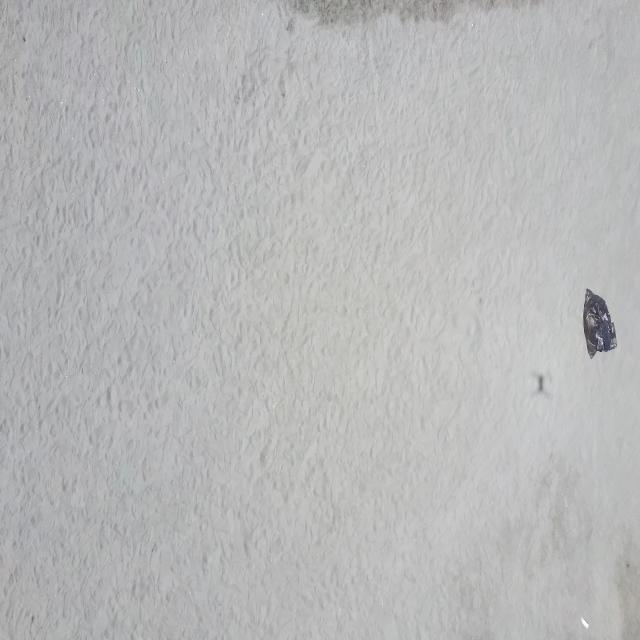Garbage: (584, 288, 615, 356)
